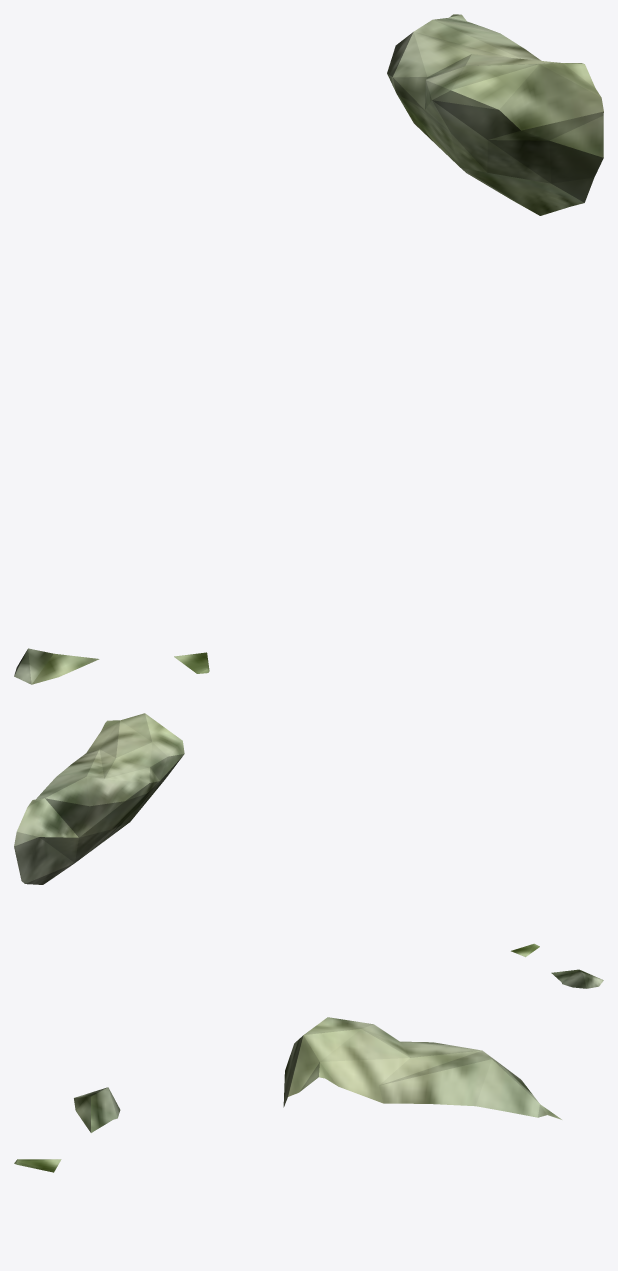
3 views of the same model, one above another, from view 1: azimuth 30°, elevation 25°; view 2: azimuth 150°, elevation 25°; view 3: azimuth 270°, elevation 25° (orthographic). The views are drawn at different scales.
Bounding box in the file's own units: 3.5 × 1.82 × 2.8.
Materials: 1 (1 with a texture image).
